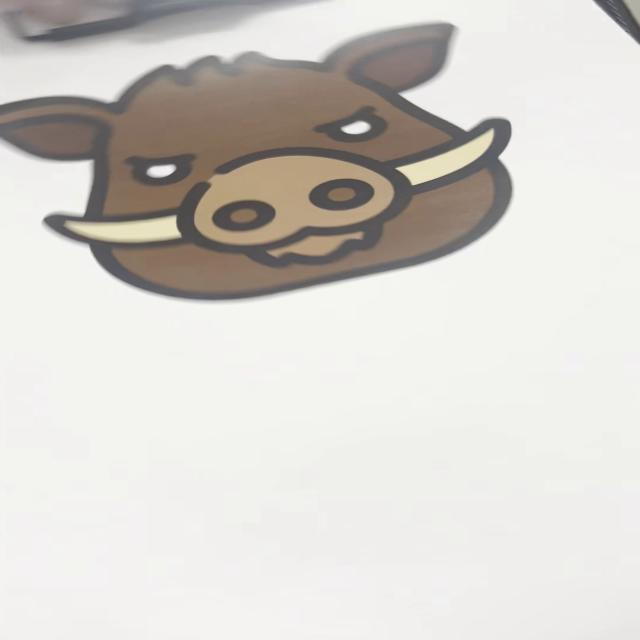animal: (3, 17, 520, 305)
